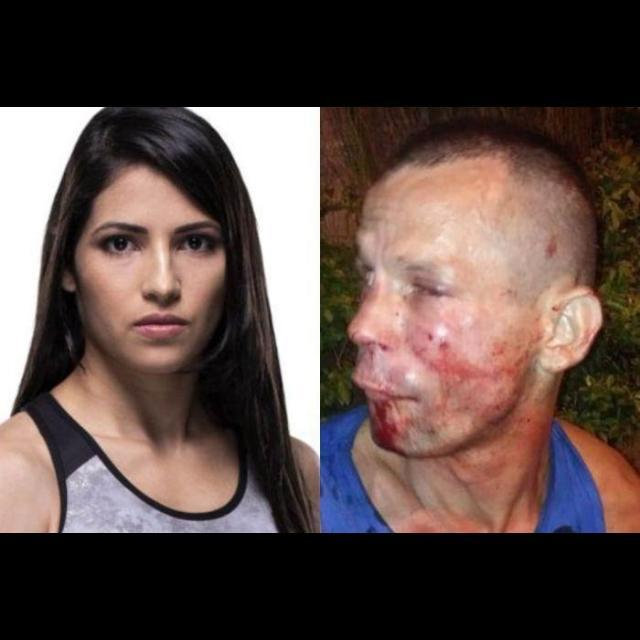blood: (411, 328, 528, 404), (365, 388, 413, 458)
